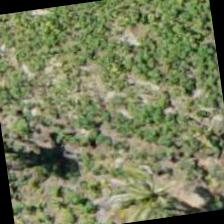Kelapa_Sawit: (93, 152, 192, 223)
